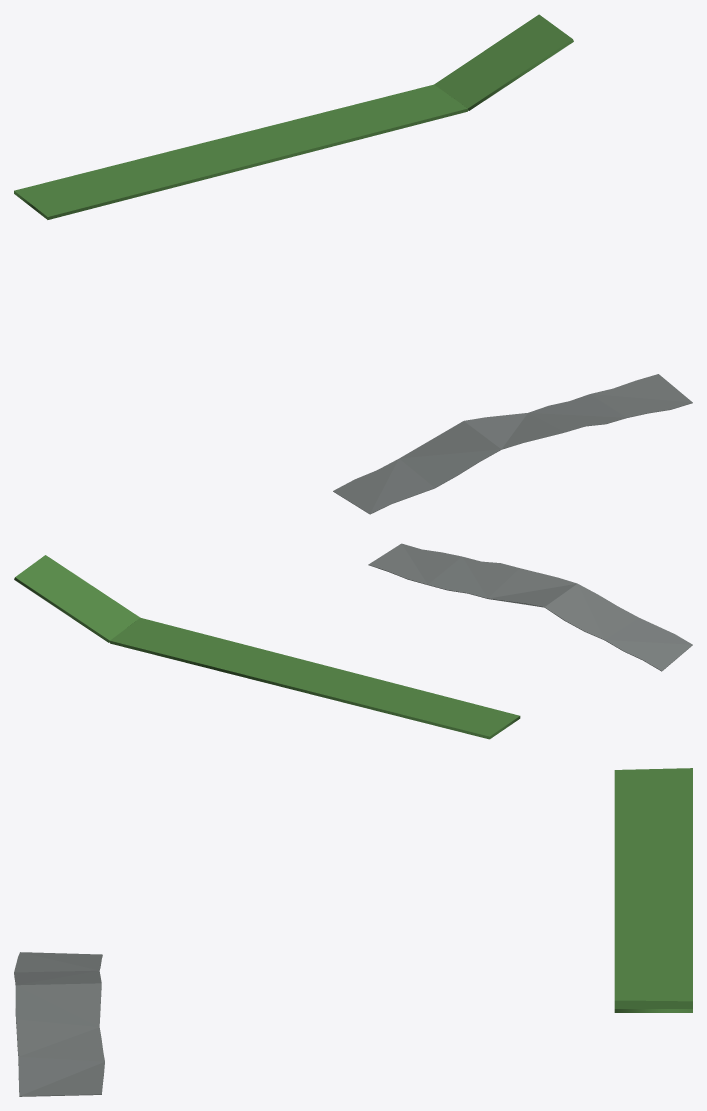
The model's file is 비탄의바다_큐브3개.fbx.
3 renders of one model, top to bottom at view 1: azimuth 30°, elevation 25°; view 2: azimuth 150°, elevation 25°; view 3: azimuth 270°, elevation 25°, orthographic. The views are drawn at different scales.
Visible parts, largest first — view 1: 1_강과바다_바닥_큐브.007, 2_동굴_바닥_큐브.003.1, 2_동굴_바닥_큐브.003.2, 1_강과바다_바닥_큐브.006; view 2: 1_강과바다_바닥_큐브.007, 2_동굴_바닥_큐브.003.1, 2_동굴_바닥_큐브.003.2, 1_강과바다_바닥_큐브.006; view 3: 1_강과바다_바닥_큐브.007, 2_동굴_바닥_큐브.003.1, 2_동굴_바닥_큐브.003.2, 1_강과바다_바닥_큐브.006.
Part boxes in pixels (<box>): 1_강과바다_바닥_큐브.007: <box>14,84,467,219</box>; 2_동굴_바닥_큐브.003.1: <box>464,374,692,449</box>; 2_동굴_바닥_큐브.003.2: <box>333,421,501,514</box>; 1_강과바다_바닥_큐브.006: <box>434,14,573,110</box>; 1_강과바다_바닥_큐브.007: <box>110,617,520,739</box>; 2_동굴_바닥_큐브.003.1: <box>368,543,577,607</box>; 2_동굴_바닥_큐브.003.2: <box>544,583,692,671</box>; 1_강과바다_바닥_큐브.006: <box>14,555,140,642</box>; 1_강과바다_바닥_큐브.007: <box>614,768,692,1001</box>; 2_동굴_바닥_큐브.003.1: <box>15,983,104,1096</box>; 2_동굴_바닥_큐브.003.2: <box>14,952,102,985</box>; 1_강과바다_바닥_큐브.006: <box>614,1000,692,1012</box>.
Size of the model in its own units: 13600 by 14099 by 4567.
